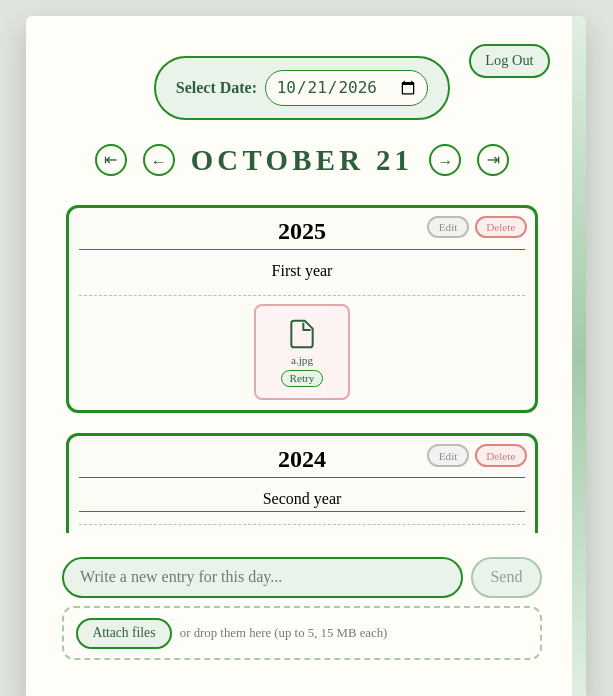
JournalApp › failure isolation › renders entries and keeps Edit/Delete working when every thumbnail fails
Expected: the text "First year" is shown, [79,258,525,283]
Expected: the text "Second year" is shown, [79,486,525,512]
What coordinates should you click on to do the following:
click the button "Delete" in the row of "2025"
I would click on:
 (501, 227)
Its box is [475,216,527,238].
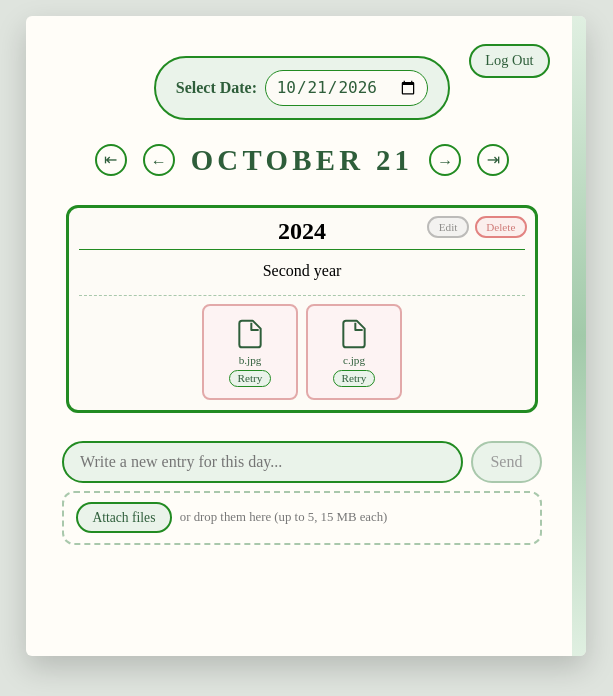
Expected: the text "First year" is gone
What coordinates should you click on to do the following:
click the button "Edit"
I would click on:
 (448, 227)
Its box is [427,216,469,238].
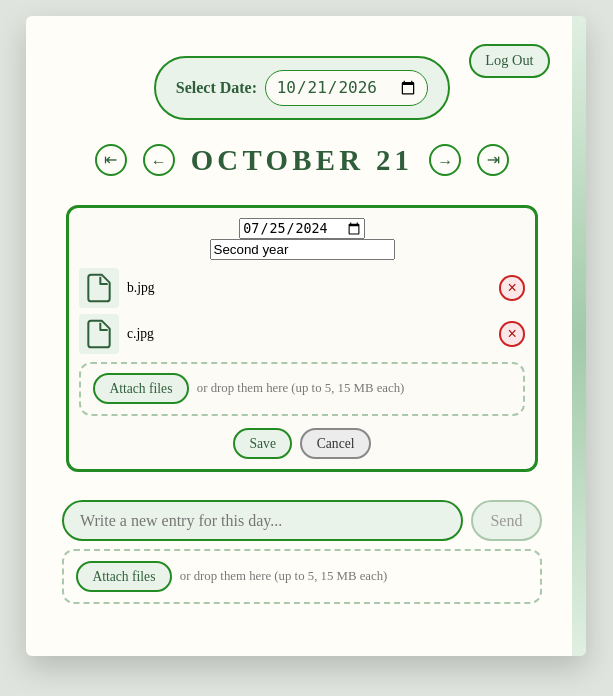
Expected: the field showing "Second year" is shown, [210,239,394,260]
